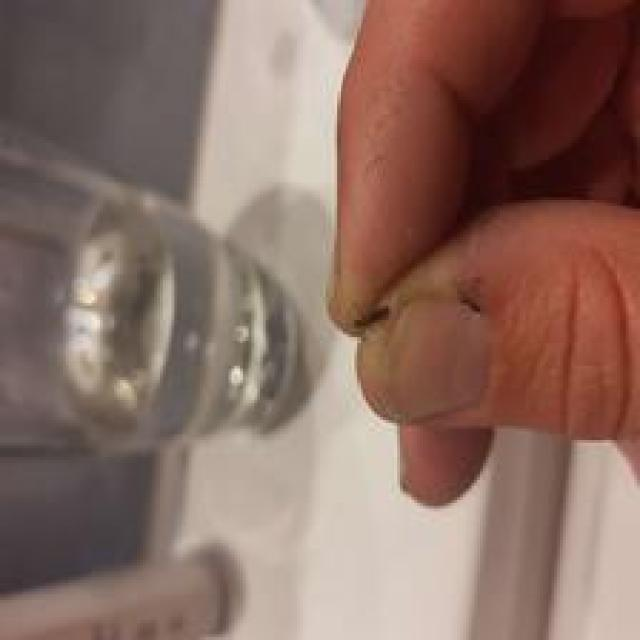Culex: (0, 100, 323, 640)
